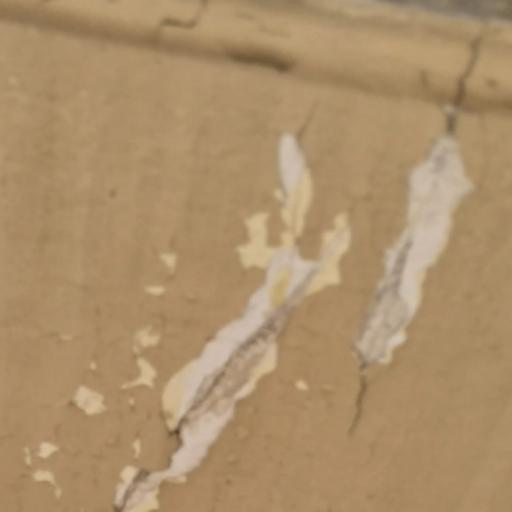peeling: (19, 95, 512, 512)
